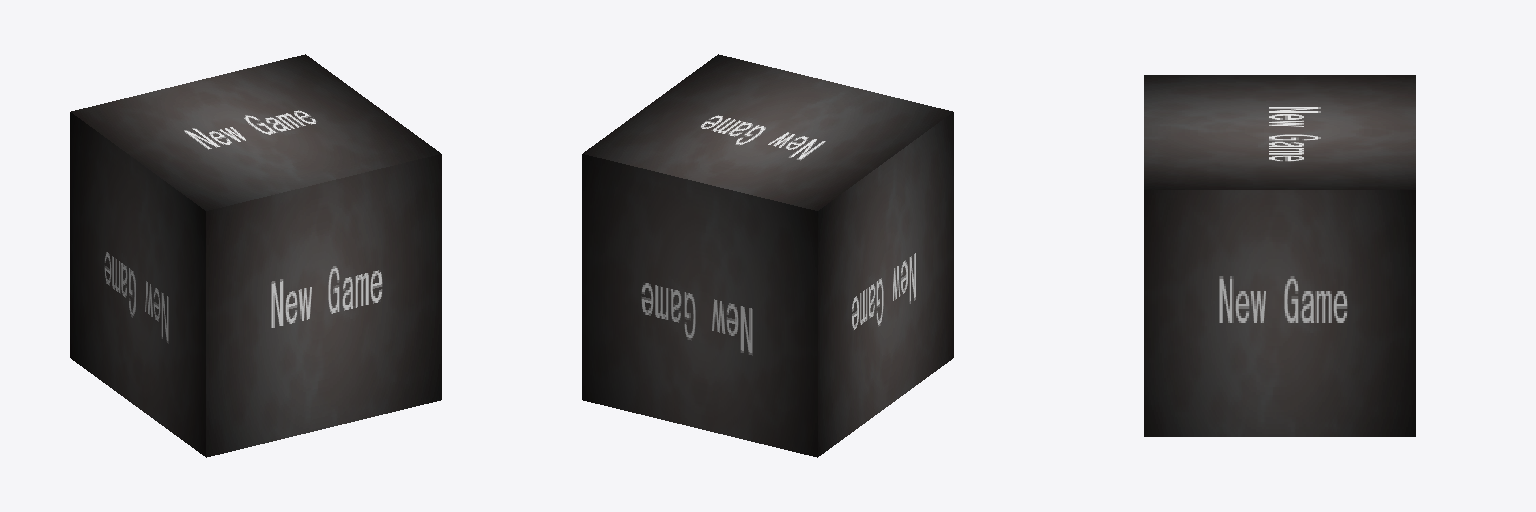
3 views of the same model, side by side, from view 1: azimuth 30°, elevation 25°; view 2: azimuth 150°, elevation 25°; view 3: azimuth 270°, elevation 25° (orthographic).
Visible parts, largest first — view 1: Cube; view 2: Cube; view 3: Cube.
Boxes of the visible parts, x1=… form: Cube: x1=70, y1=54, x2=441, y2=457; Cube: x1=582, y1=54, x2=953, y2=457; Cube: x1=1144, y1=75, x2=1415, y2=436.
Size of the model in its own units: 2 by 2 by 2.
1 materials, 1 textured.